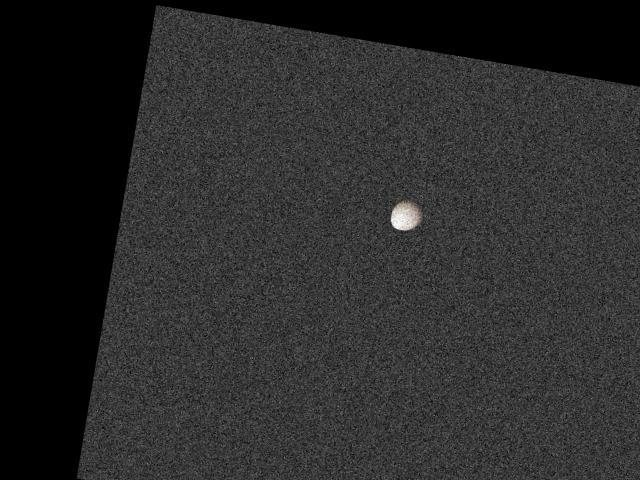egg: (389, 196, 427, 233)
